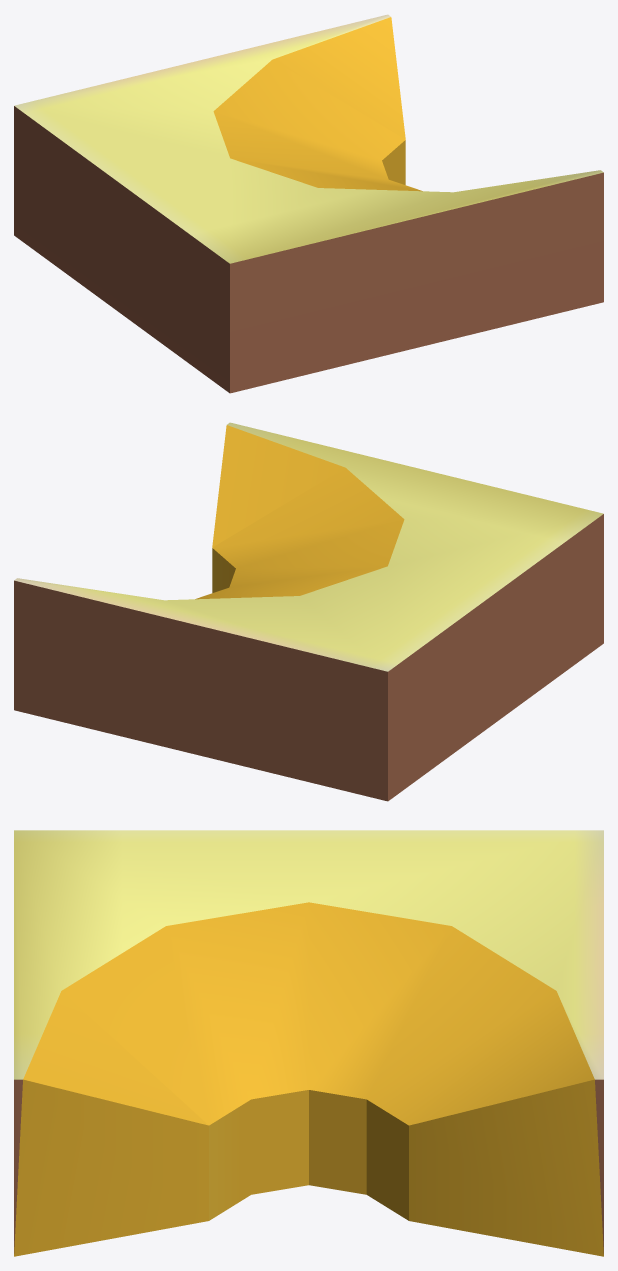
File: Shore.SingleConcave.B.Hor.Desert.glb
3 views of the same model, one above another, from view 1: azimuth 30°, elevation 25°; view 2: azimuth 150°, elevation 25°; view 3: azimuth 270°, elevation 25° (orthographic). The views are drawn at different scales.
Visible parts, largest first — view 1: Shore.SingleConcave.B.Hor.Desert; view 2: Shore.SingleConcave.B.Hor.Desert; view 3: Shore.SingleConcave.B.Hor.Desert.
Part boxes in pixels (x1=…): Shore.SingleConcave.B.Hor.Desert: x1=14, y1=14, x2=603, y2=393; Shore.SingleConcave.B.Hor.Desert: x1=14, y1=422, x2=603, y2=801; Shore.SingleConcave.B.Hor.Desert: x1=14, y1=830, x2=603, y2=1256.
Bounding box in the file's own units: 3 × 0.9943 × 3.
Materials: 1 (1 with a texture image).
